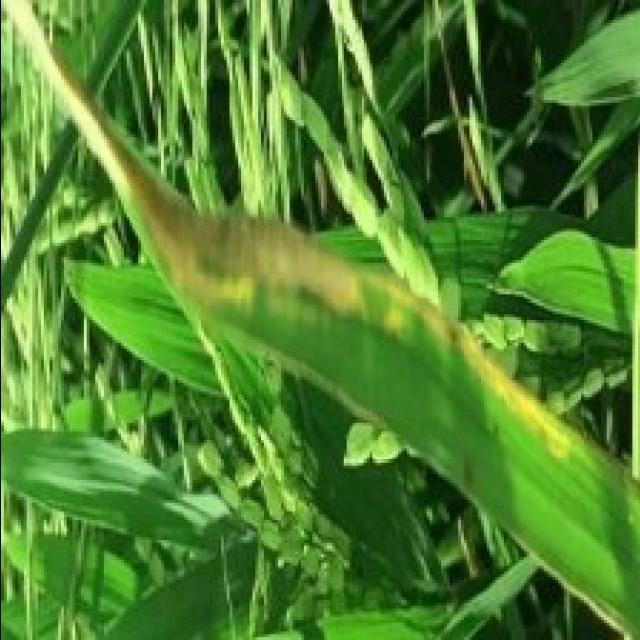Unhealthy: (0, 0, 587, 471)
